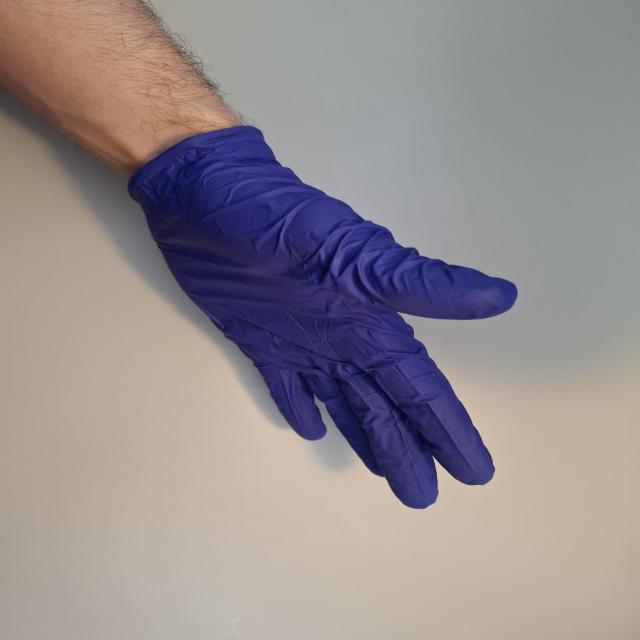glove_on: (130, 125, 521, 511)
